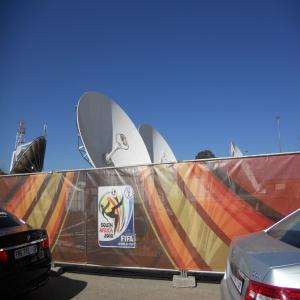Vehicle-registration-plate: (230, 264, 244, 297), (16, 245, 38, 260)
